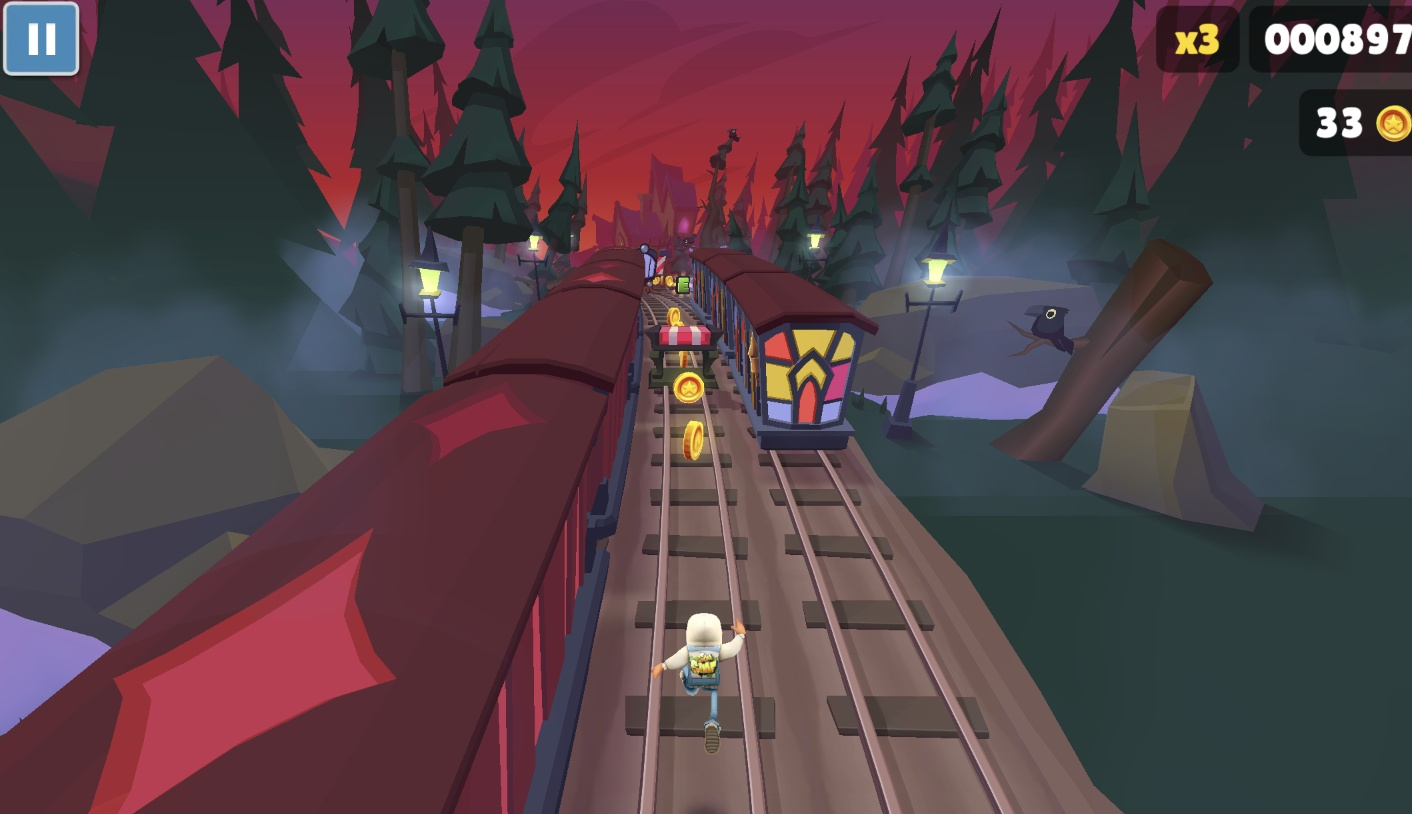ground_barrier: (645, 325, 721, 387)
overhead_barrier: (656, 249, 669, 276)
train: (62, 245, 649, 814), (688, 245, 881, 445), (637, 242, 671, 279)
